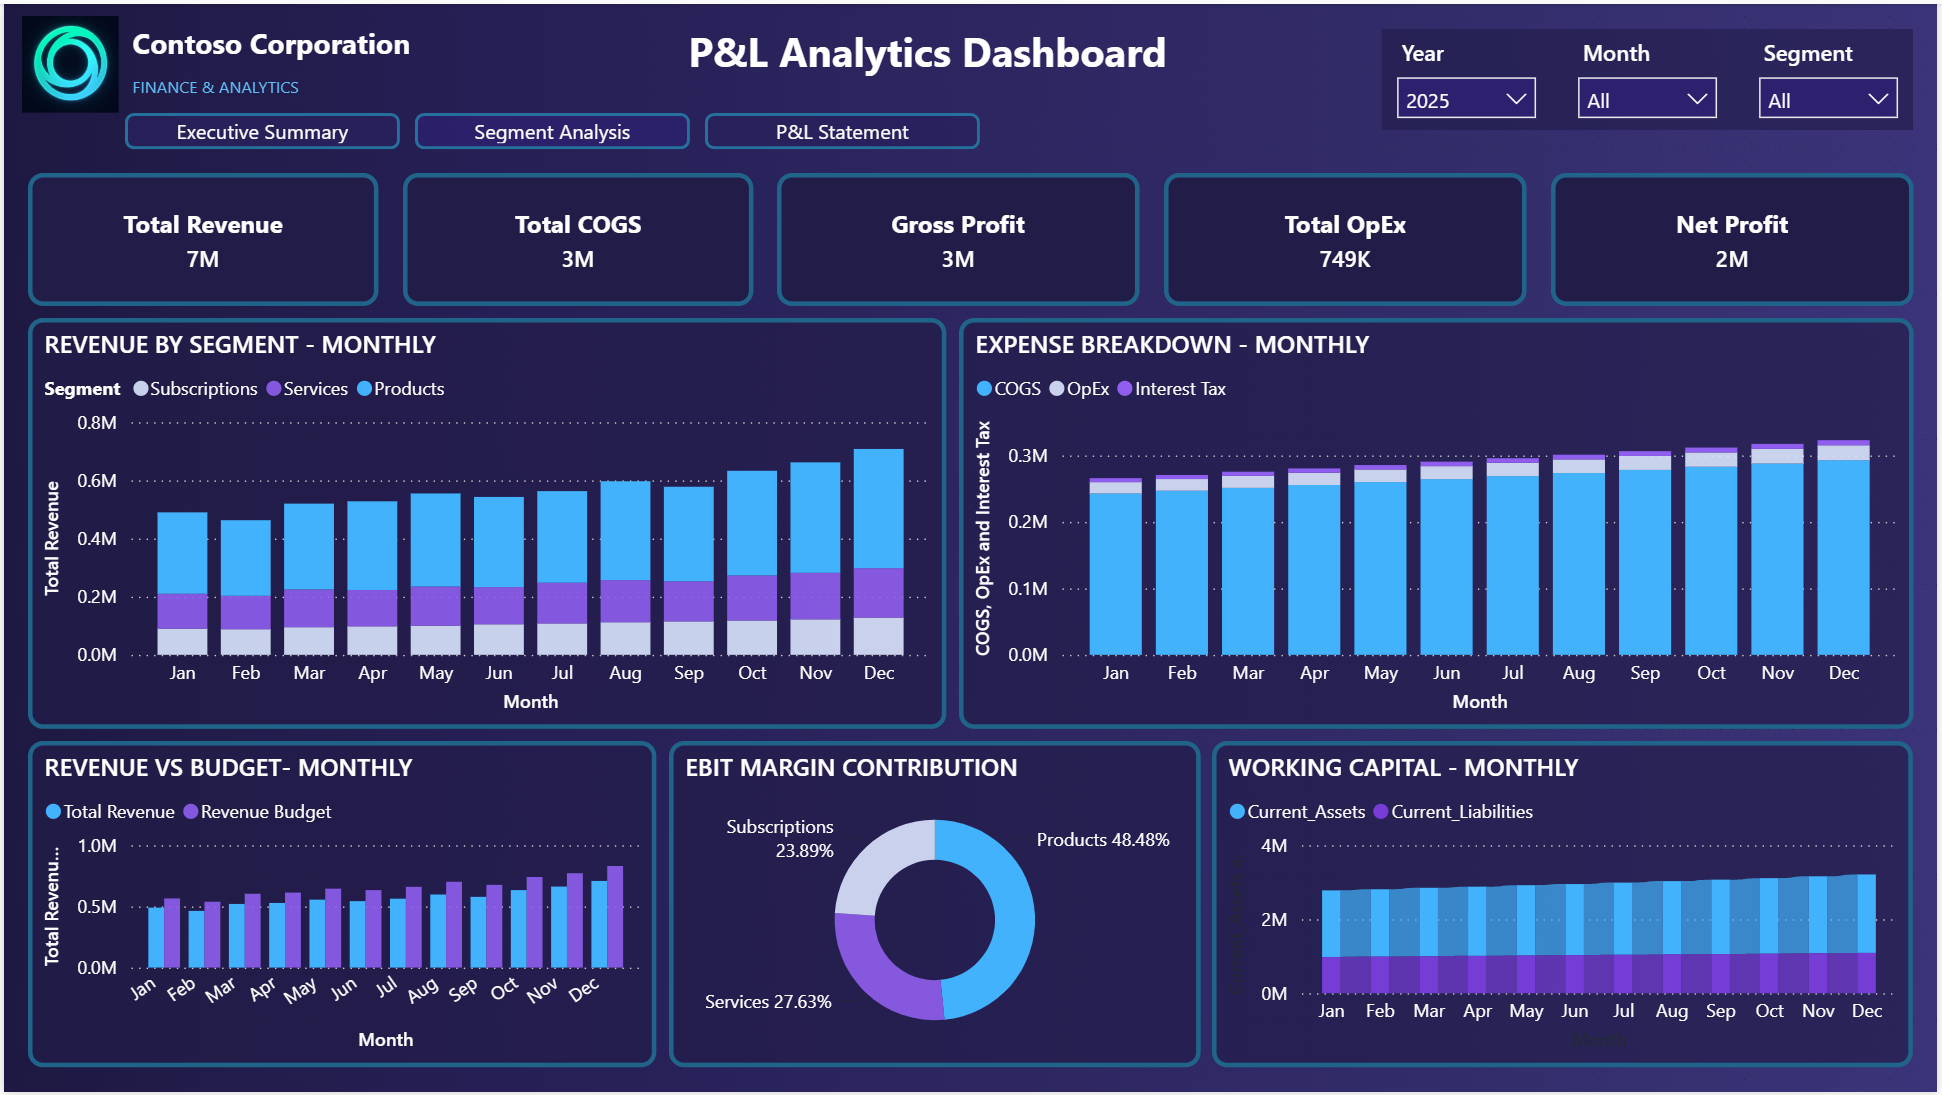

The page's visual inventory and layout, read from the dashboard file:
{"tool":"powerbi","page":{"name":"Segment Analysis","canvas":[1280,720],"ordinal":1},"visuals":[{"type":"slicer","title":"YEAR","fields":{"Values":["Monthly_PL.Year"]},"box":[912.5,16.2,111.8,67.5],"z":0,"group":"g1"},{"type":"cardVisual","title":"Revenue","fields":{"Data":["_Measures.Total Revenue"]},"box":[16,112,232,88],"z":0},{"type":"slicer","fields":{"Values":["Monthly_PL.Month"]},"box":[1032.2,16.2,111.8,67.5],"z":1000,"group":"g1"},{"type":"cardVisual","title":"Revenue","fields":{"Data":["_Measures.Total COGS"]},"box":[264,112,232,88],"z":1000},{"type":"slicer","fields":{"Values":["Monthly_PL.Segment"]},"box":[1152,16.2,111.8,67.5],"z":2000,"group":"g1"},{"type":"cardVisual","title":"Revenue","fields":{"Data":["_Measures.Gross Profit"]},"box":[512,112,240,88],"z":2000},{"type":"cardVisual","title":"Revenue","fields":{"Data":["_Measures.Total OpEx"]},"box":[768,112,240,88],"z":3000},{"type":"cardVisual","title":"Revenue","fields":{"Data":["_Measures.Net Profit"]},"box":[1024,112,240,88],"z":4000},{"type":"clusteredColumnChart","title":"REVENUE VS BUDGET- MONTHLY","fields":{"Category":["Monthly_PL.Month"],"Y":["_Measures.Total Revenue","_Measures.Revenue Budget"]},"box":[16,488,416,216],"z":5000},{"type":"donutChart","title":"EBIT MARGIN CONTRIBUTION","fields":{"Category":["Monthly_PL.Segment"],"Y":["_Measures.EBIT"]},"box":[440,488,352,216],"z":6000},{"type":"ribbonChart","title":"WORKING CAPITAL - MONTHLY","fields":{"Category":["Monthly_PL.Month"],"Y":["Sum(Monthly_PL.Current_Assets)","Sum(Monthly_PL.Current_Liabilities)"]},"box":[800,488,464,216],"z":7000},{"type":"textbox","box":[80,8,216,40],"z":8000},{"type":"textbox","box":[80,40,216,32],"z":9000},{"type":"columnChart","title":"REVENUE BY SEGMENT - MONTHLY","fields":{"Y":["Sum(Monthly_PL.Revenue)"],"Series":["Monthly_PL.Segment"],"Category":["Monthly_PL.Month"]},"box":[16,208,608,272],"z":10000},{"type":"columnChart","title":"EXPENSE BREAKDOWN - MONTHLY","fields":{"Category":["Monthly_PL.Month"],"Y":["_Measures.Monthly COGS","_Measures.Monthly OpEx","_Measures.Monthly Interest Tax"]},"box":[632,208,632,272],"z":11000},{"type":"textbox","box":[448,8,336,56],"z":12000},{"type":"image","box":[8,8,72,64],"z":13000},{"type":"pageNavigator","box":[80,72,568,24],"z":14000},{"type":"group","id":"g1","title":"Group 1","box":[912.5,16.2,351.2,67.5],"z":15000}]}

Visuals, with their boxes in screenshot pixels (x1, y1, x2, y2), scaled from the page's 1280x720 canvas onto the 1942x1095 screenshot:
"YEAR" slicer: BBox(1384, 25, 1554, 127)
"Revenue" cardVisual: BBox(24, 170, 376, 304)
slicer - Monthly_PL.Month: BBox(1566, 25, 1736, 127)
"Revenue" cardVisual: BBox(401, 170, 753, 304)
slicer - Monthly_PL.Segment: BBox(1748, 25, 1917, 127)
"Revenue" cardVisual: BBox(777, 170, 1141, 304)
"Revenue" cardVisual: BBox(1165, 170, 1529, 304)
"Revenue" cardVisual: BBox(1554, 170, 1918, 304)
"REVENUE VS BUDGET- MONTHLY" clusteredColumnChart: BBox(24, 742, 655, 1071)
"EBIT MARGIN CONTRIBUTION" donutChart: BBox(668, 742, 1202, 1071)
"WORKING CAPITAL - MONTHLY" ribbonChart: BBox(1214, 742, 1918, 1071)
textbox: BBox(121, 12, 449, 73)
textbox: BBox(121, 61, 449, 110)
"REVENUE BY SEGMENT - MONTHLY" columnChart: BBox(24, 316, 947, 730)
"EXPENSE BREAKDOWN - MONTHLY" columnChart: BBox(959, 316, 1918, 730)
textbox: BBox(680, 12, 1189, 97)
image: BBox(12, 12, 121, 110)
pageNavigator: BBox(121, 110, 983, 146)
"Group 1" group: BBox(1384, 25, 1917, 127)
